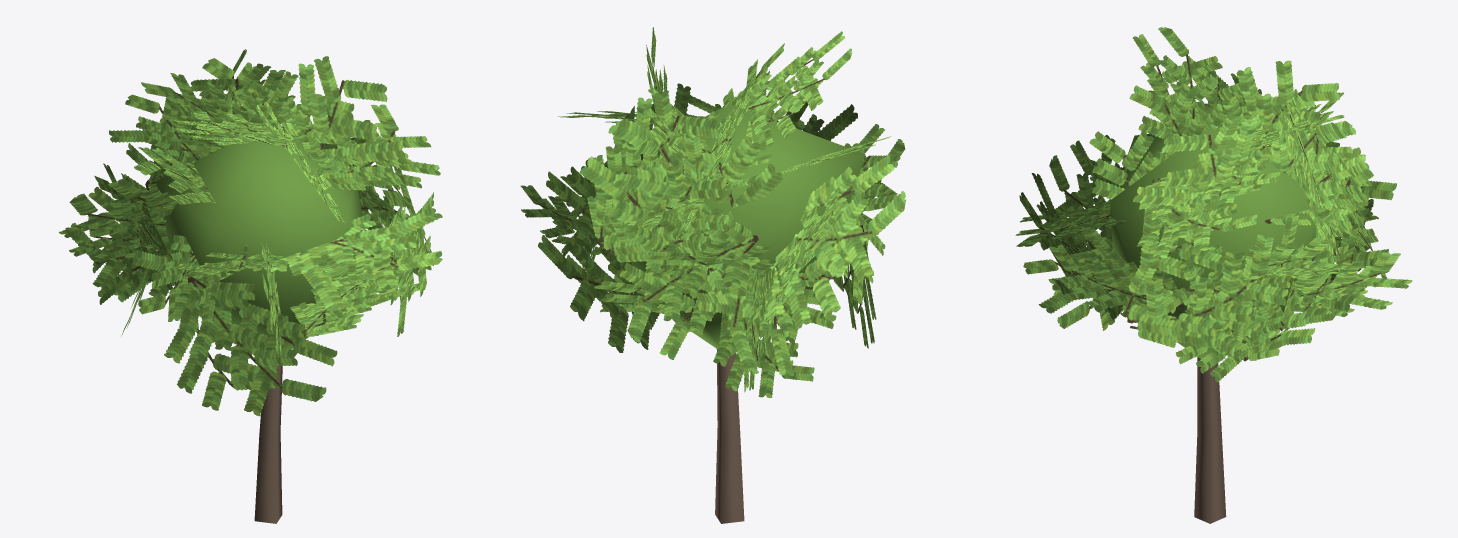
Rendered from ROBINIA_2.glb.
The picture shows the model from 3 angles, left to right: view 1: azimuth 30°, elevation 25°; view 2: azimuth 150°, elevation 25°; view 3: azimuth 270°, elevation 25°; orthographic projection. The views are drawn at different scales.
Parts seen in each view (by area): view 1: Arv_ROBINIA_lod2; view 2: Arv_ROBINIA_lod2; view 3: Arv_ROBINIA_lod2.
Part boxes in pixels (left/top/right/bottom): Arv_ROBINIA_lod2: left=59, top=49, right=442, bottom=523; Arv_ROBINIA_lod2: left=520, top=27, right=905, bottom=523; Arv_ROBINIA_lod2: left=1015, top=27, right=1412, bottom=523.
Size of the model in its own units: 9.64 by 11.37 by 10.7.
3 materials, 1 textured.
